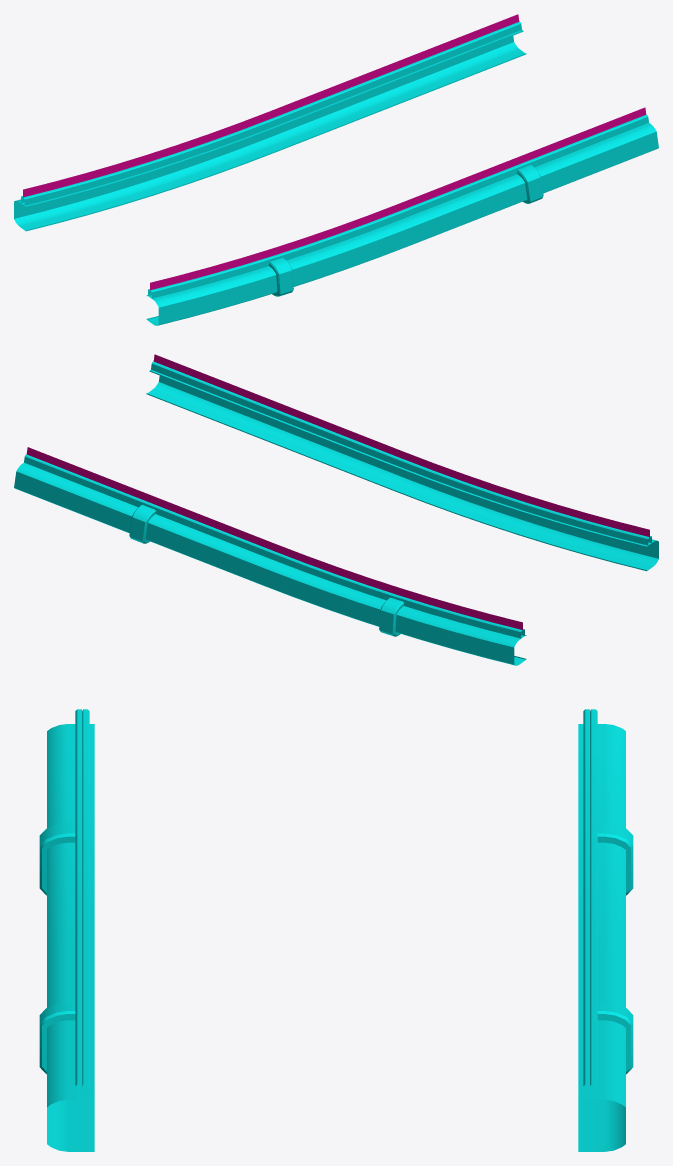
File: Mur_M_8.fbx
3 views of the same model, one above another, from view 1: azimuth 30°, elevation 25°; view 2: azimuth 150°, elevation 25°; view 3: azimuth 270°, elevation 25° (orthographic). The views are drawn at different scales.
Parts seen in each view (by area): view 1: polySurface806; view 2: polySurface806; view 3: polySurface806.
Part boxes in pixels (box(x1,y1,x2,y2)): polySurface806: box(14, 14, 658, 325); polySurface806: box(14, 354, 658, 665); polySurface806: box(39, 709, 633, 1151).
Size of the model in its own units: 29.95 by 5.38 by 15.38.
